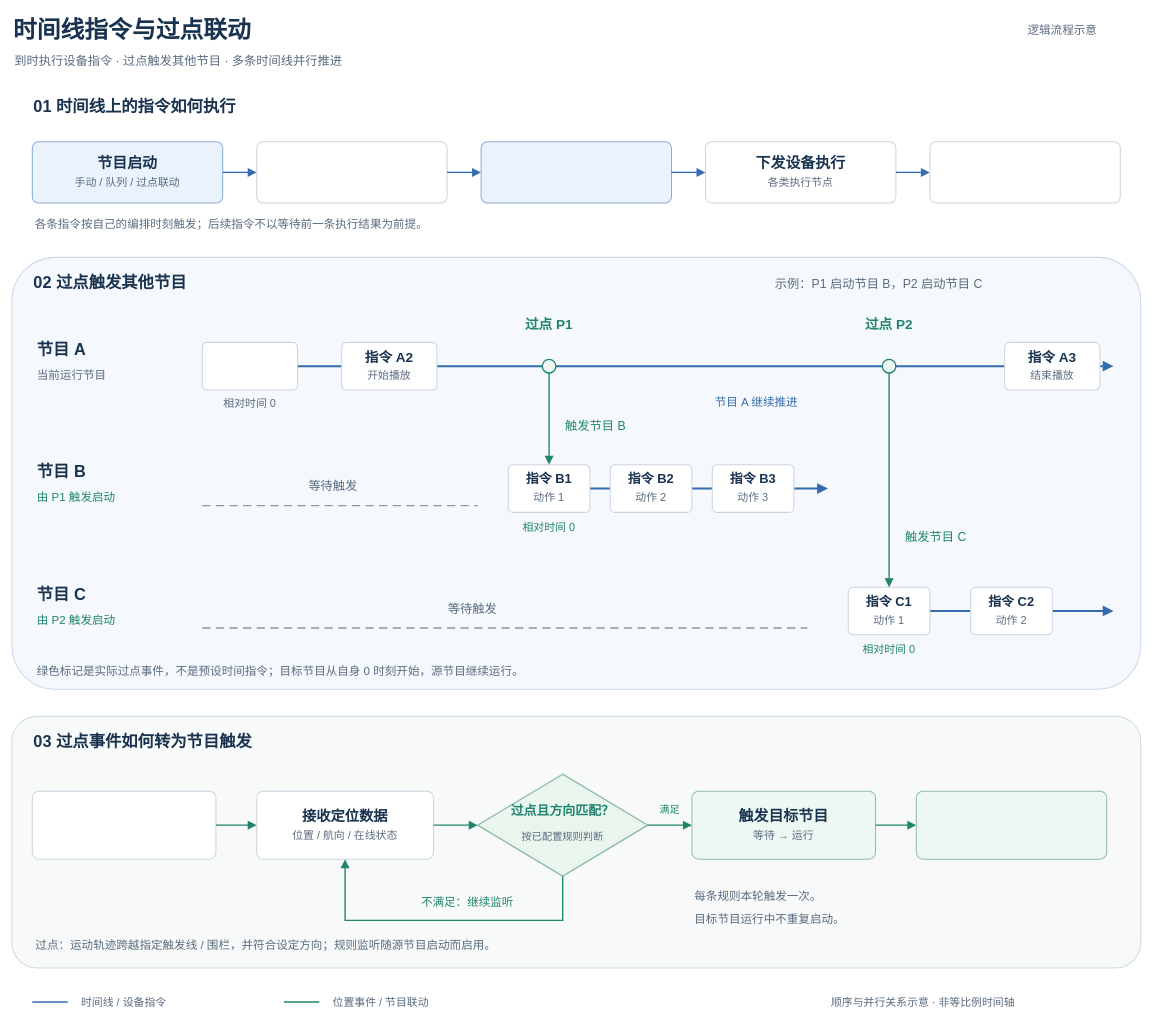
The diagram is 1153 pixels wide and 1023 high, and some of its shapes have lost their labels. The centre of each missing label's shape, as x and y in pixels:
到时触发指令 目标设备 + 动作 + 参数: pixel 576 172
启用联动规则 源节目运行 / 目标节目等待: pixel 123 824
指令 A1 加载媒体: pixel 249 366
时间线推进 相对节目起点计时: pixel 351 172
独立时间线执行 相对 0 起播 / 到时执行指令: pixel 1011 824
记录执行结果 成功 / 失败: pixel 1025 172
